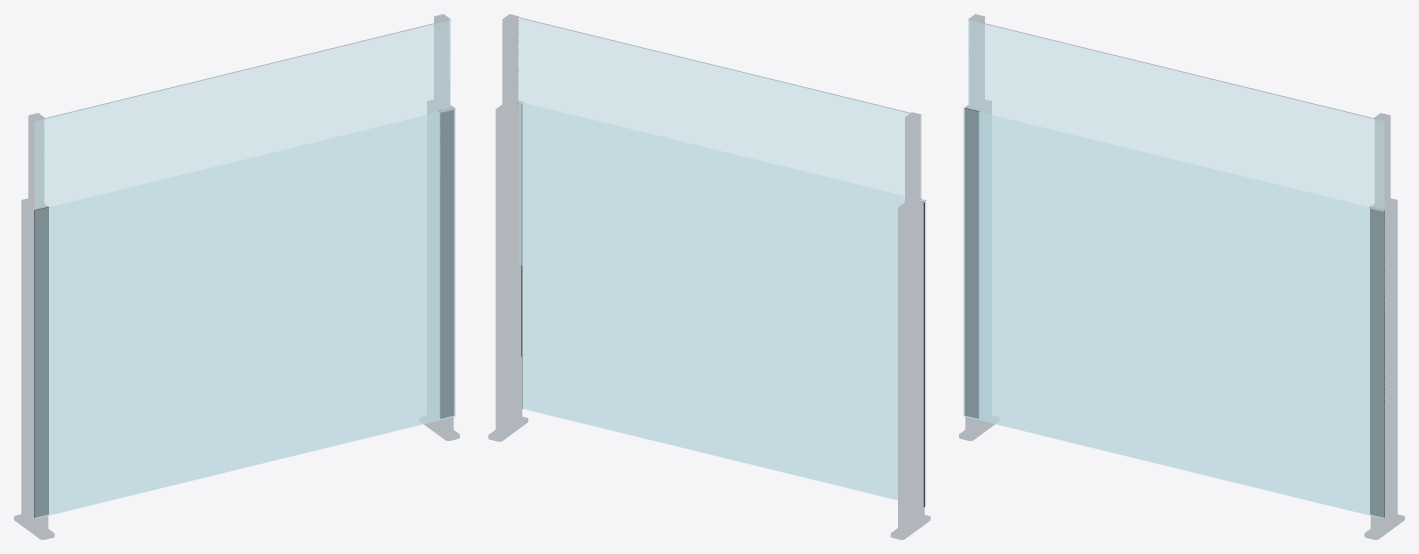
Rendered from clickitup-source.glb.
3 views of the same model, side by side, from view 1: azimuth 30°, elevation 25°; view 2: azimuth 150°, elevation 25°; view 3: azimuth 330°, elevation 25° (orthographic).
Parts seen in each view (by area): view 1: lower-glass-span, upper-glass-span, source-left-end, source-right-end, top-rail-span; view 2: lower-glass-span, upper-glass-span, source-right-end, source-left-end, top-rail-span; view 3: lower-glass-span, upper-glass-span, source-right-end, source-left-end, top-rail-span.
Part boxes in pixels (x1,y1,x2,y2): lower-glass-span: [35, 109, 455, 518]; upper-glass-span: [34, 20, 450, 208]; source-left-end: [14, 116, 54, 539]; source-right-end: [419, 17, 459, 440]; top-rail-span: [28, 14, 450, 121]; lower-glass-span: [522, 103, 926, 506]; upper-glass-span: [518, 18, 921, 357]; source-right-end: [488, 18, 528, 441]; source-left-end: [890, 116, 930, 539]; top-rail-span: [502, 14, 921, 120]; lower-glass-span: [963, 108, 1383, 518]; upper-glass-span: [968, 20, 1384, 208]; source-right-end: [1364, 116, 1404, 539]; source-left-end: [959, 17, 999, 440]; top-rail-span: [968, 14, 1390, 121].
Size of the model in its own units: 1.5 by 1.41 by 0.18.
